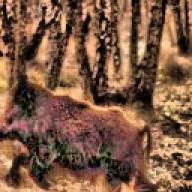boar: (0, 72, 162, 192)
